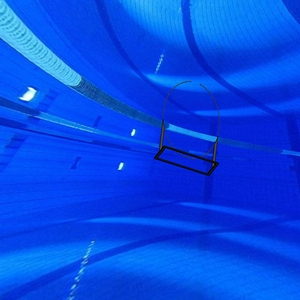circle: (153, 80, 222, 179)
